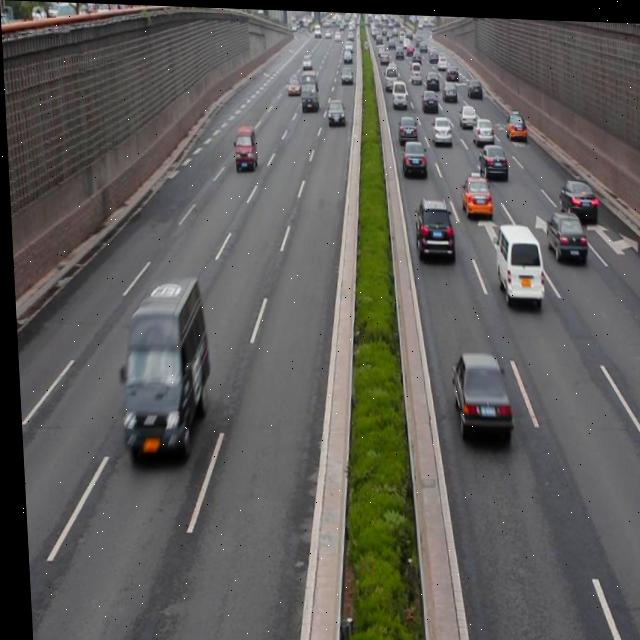car: (447, 349, 507, 437), (412, 194, 451, 258), (544, 208, 582, 261), (556, 176, 594, 220), (457, 168, 489, 215), (398, 134, 425, 177), (477, 137, 504, 180), (430, 114, 451, 142), (470, 114, 489, 143), (503, 110, 524, 135), (397, 112, 414, 139)
truck: (114, 279, 210, 463), (493, 219, 540, 301), (232, 124, 257, 169)
